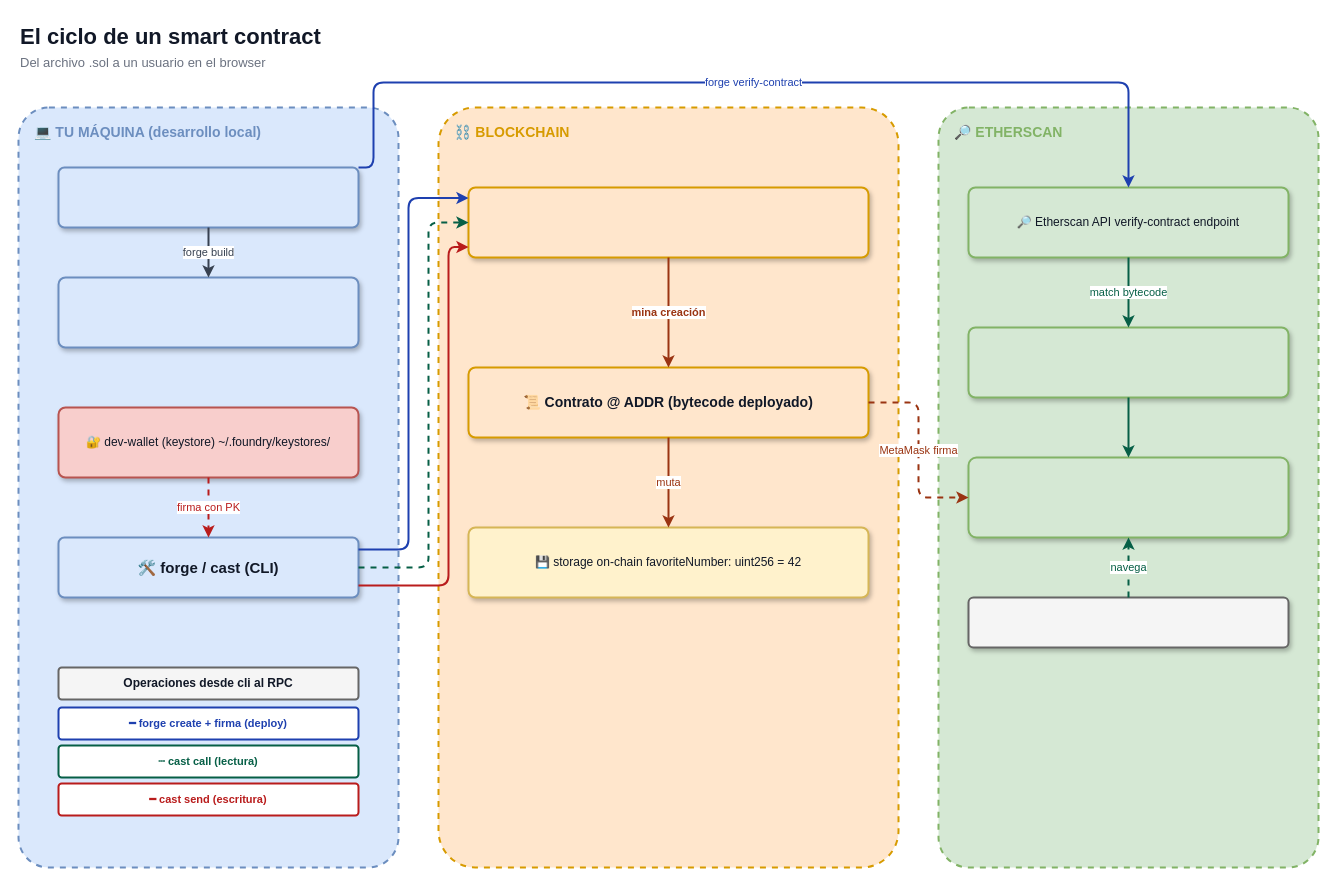
This 1336x885 diagram has some shape labels left out. Each missing label, with the centre of its shape:
✅ Source verificado (.sol público + ABI): pixel 1129 363
🌐 Nodo RPC :8545 (anvil) o público (Sepolia): pixel 669 223
👤 Cualquier usuario: pixel 1129 623
📄 SimpleStorage.sol: pixel 209 198
📦 bytecode + ABI out/.../SimpleStorage.json: pixel 209 313
🖱️ Read / Write Contract UI con MetaMask: pixel 1129 498
